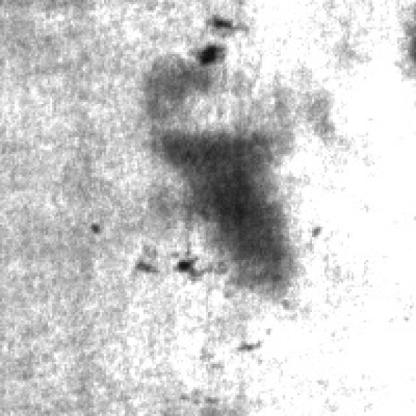patches: (160, 129, 293, 295)
